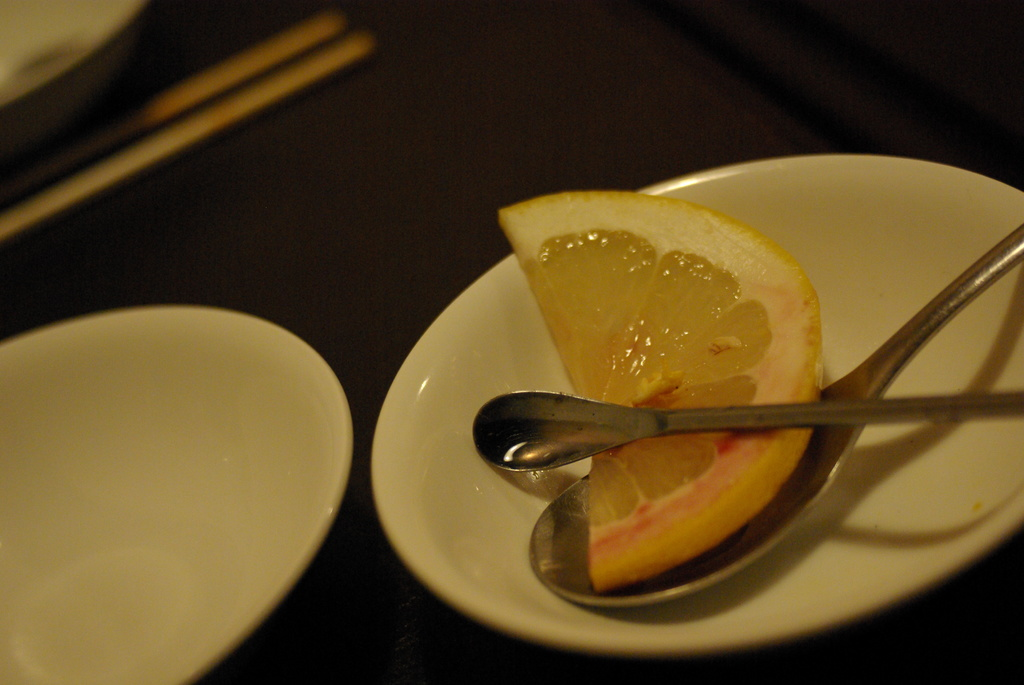plate: (0, 307, 353, 684)
